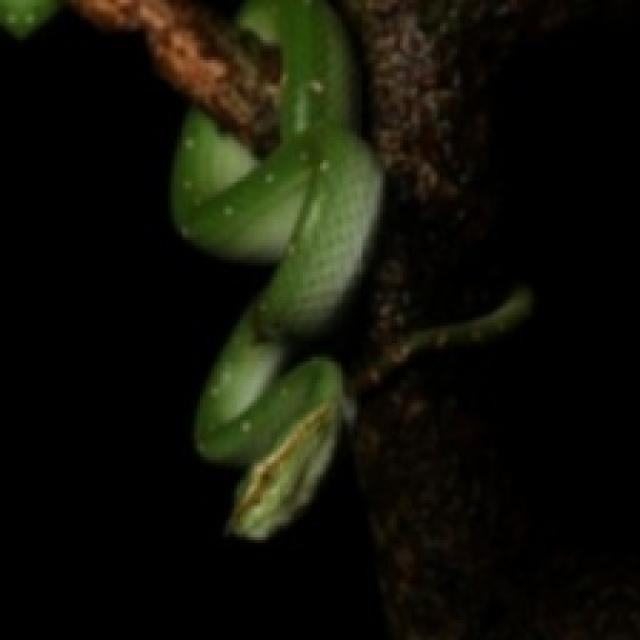north ph temple pitviper: (171, 0, 380, 537)
